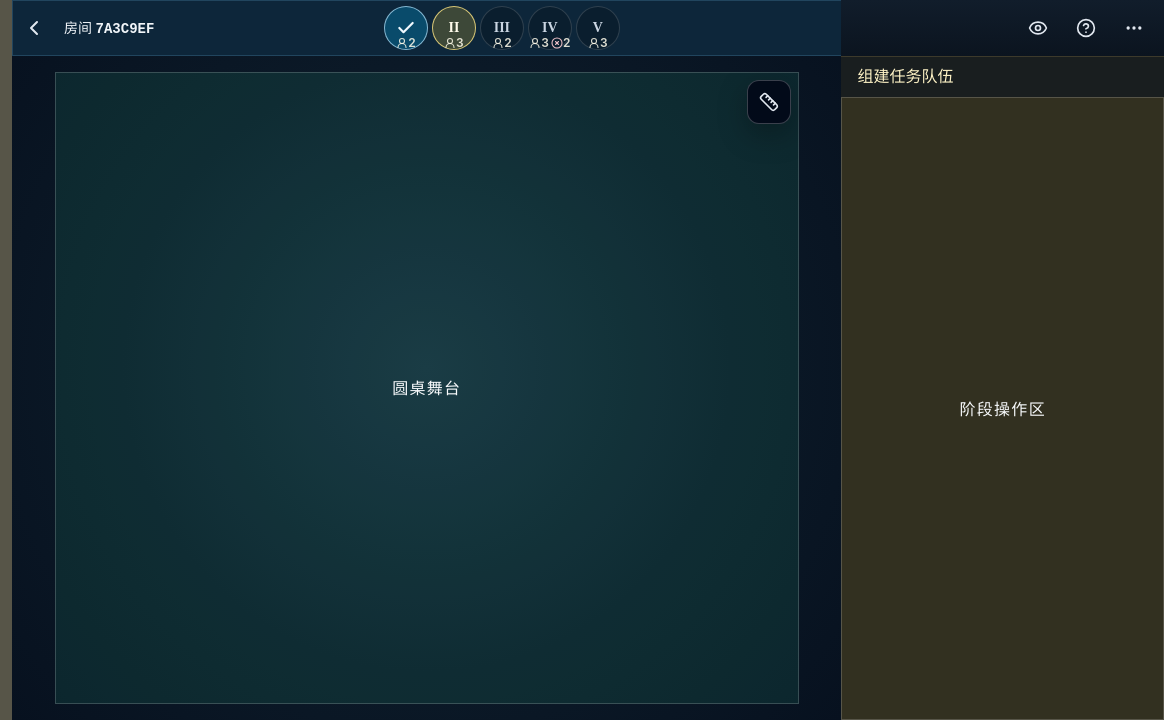
RoomLayoutBasePreview toolbar › opens the real More menu for the log instead of rendering a direct log control
Click the button named "房间操作": (1134, 28) [1112, 6, 1156, 50]
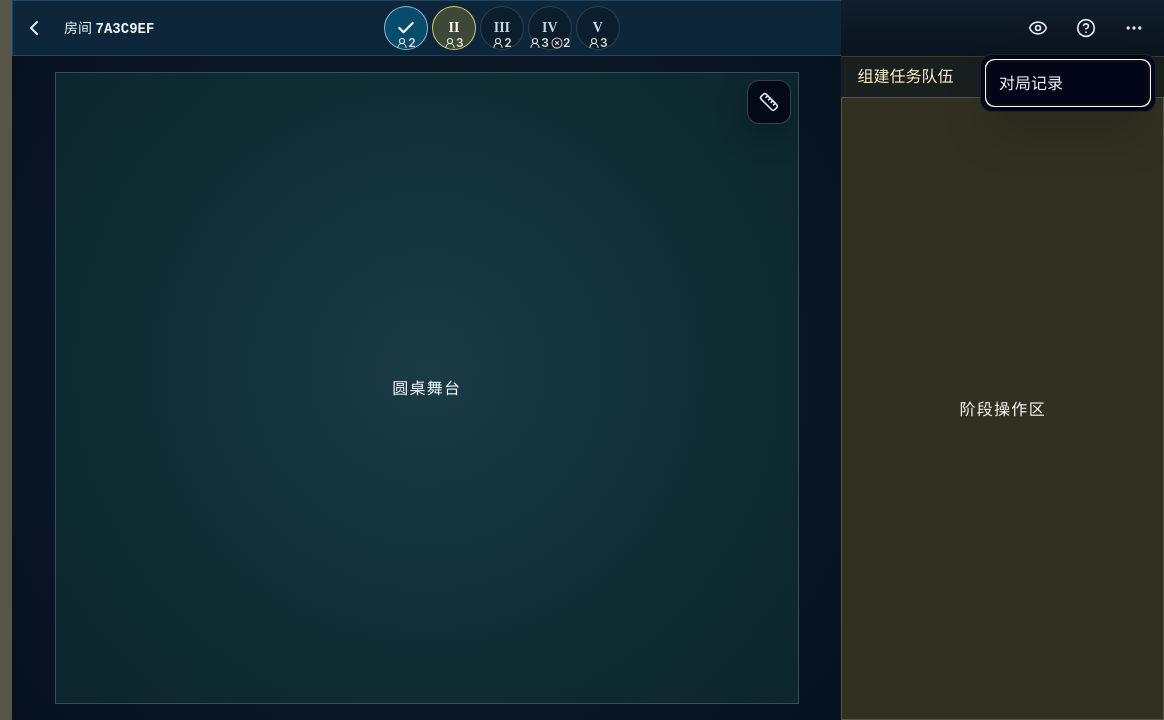
Expected: the menu reads "对局记录", [987, 61, 1149, 105]
